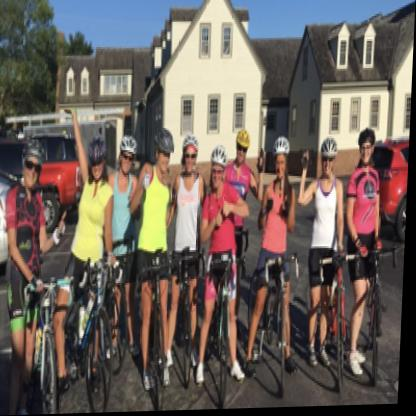With Helmet: (22, 126, 47, 196), (152, 125, 181, 175), (86, 132, 110, 192), (116, 134, 143, 180), (208, 141, 232, 191), (320, 130, 342, 183), (356, 124, 383, 167), (273, 130, 295, 180), (181, 130, 202, 175), (235, 127, 254, 164)
